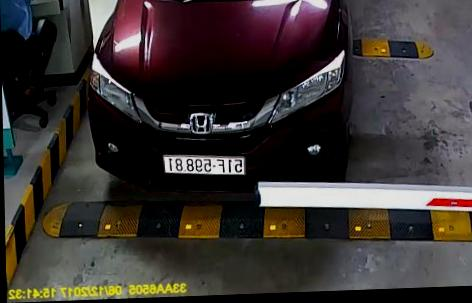License_Plate: (163, 151, 248, 178)
